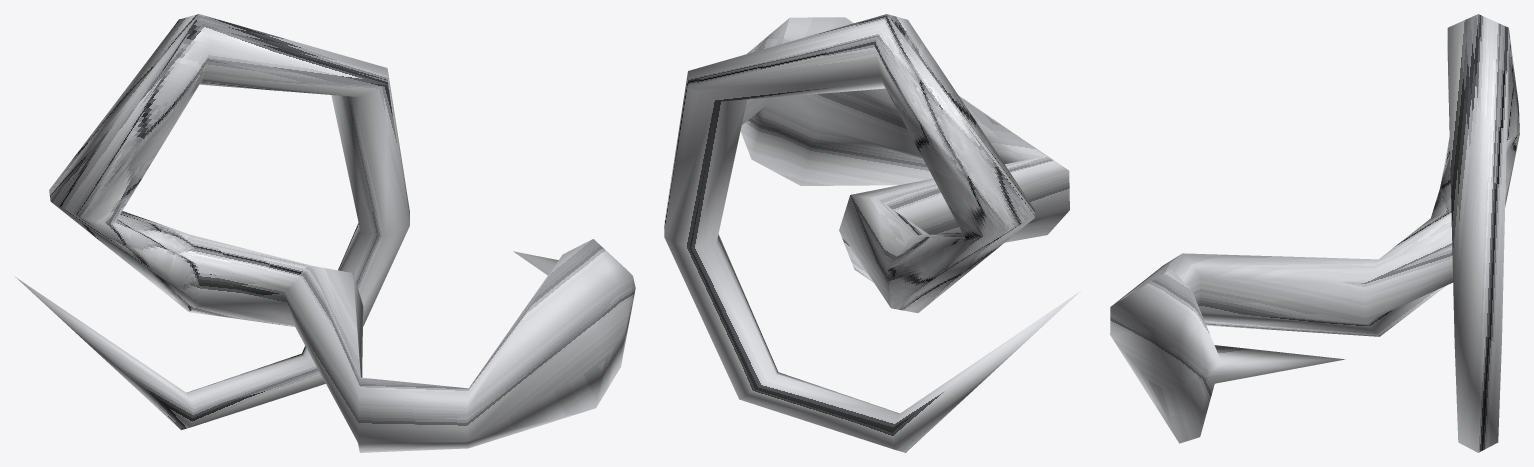
File: snake_000023.obj
3 views of the same model, side by side, from view 1: azimuth 30°, elevation 25°; view 2: azimuth 150°, elevation 25°; view 3: azimuth 270°, elevation 25° (orthographic). The views are drawn at different scales.
Visible parts, largest first — view 1: Cylinder; view 2: Cylinder; view 3: Cylinder.
Part boxes in pixels (bbox=[...]): Cylinder: bbox=[15, 14, 635, 452]; Cylinder: bbox=[664, 14, 1080, 452]; Cylinder: bbox=[1110, 14, 1519, 452].
Bounding box in the file's own units: 2.83 × 2.33 × 2.22.
